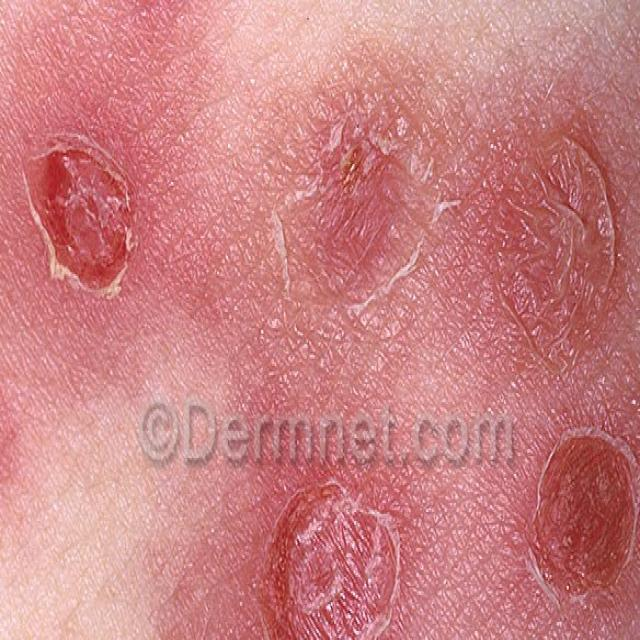Viral Infections: (252, 79, 453, 349), (0, 58, 170, 348), (482, 126, 640, 379), (234, 452, 435, 640), (524, 405, 640, 640), (0, 375, 43, 508)
